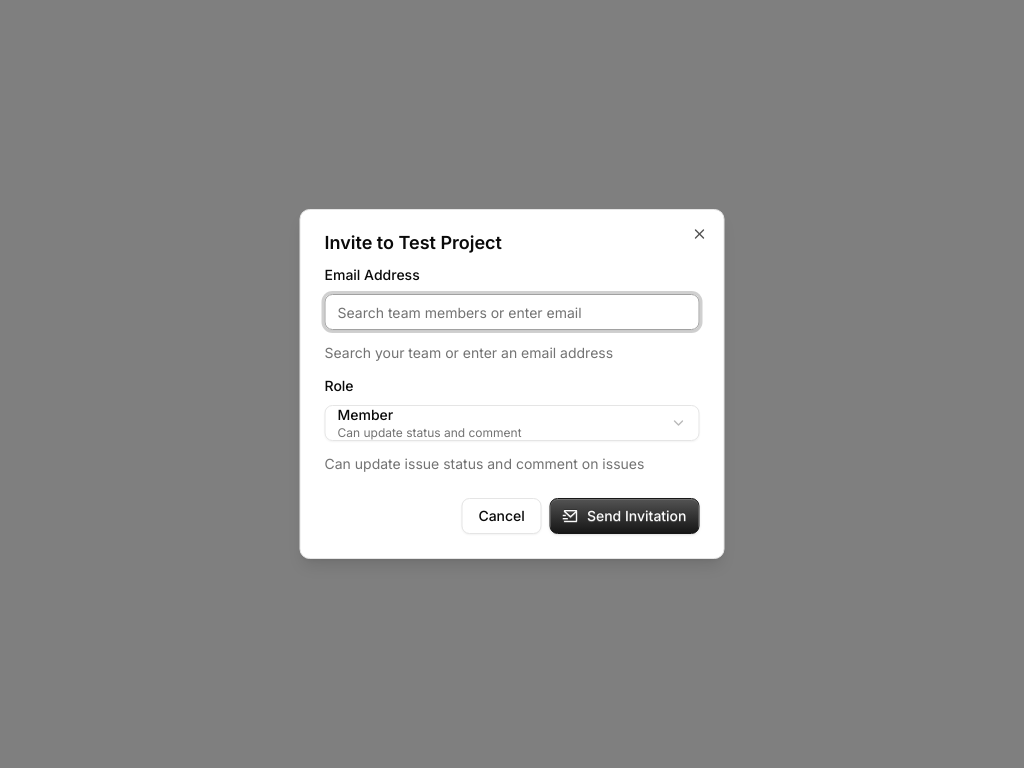
Test case: ProjectInvitationDialog › Form submission › should show loading state during submission
In the field labelled "Email Address": (512, 312) 324,294 -> 700,330, type "test@example.com"
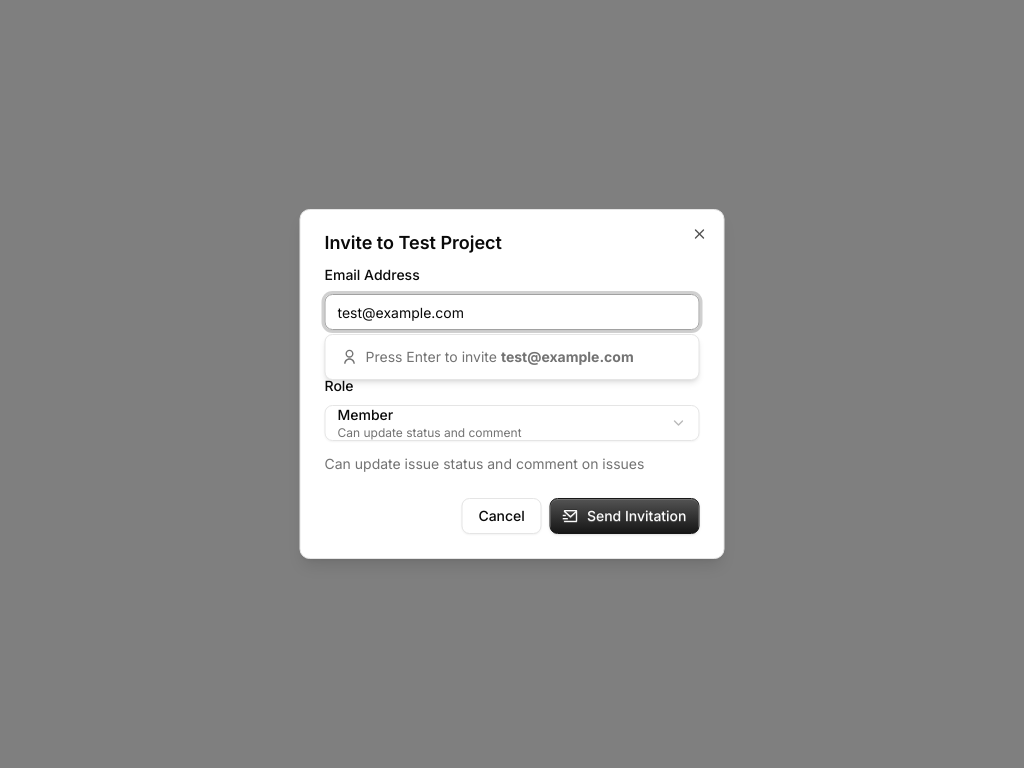
Click the button "Send Invitation": (625, 516) 550,498 -> 700,534
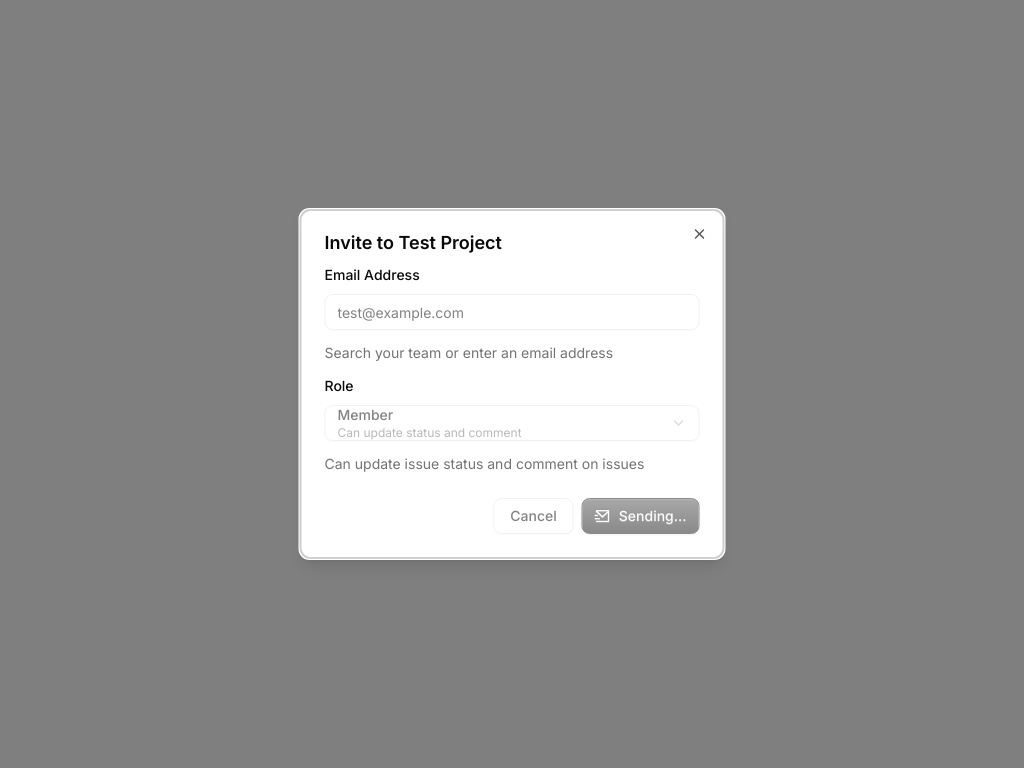
Now the button "Sending..." is shown, box 582,498 -> 700,534
